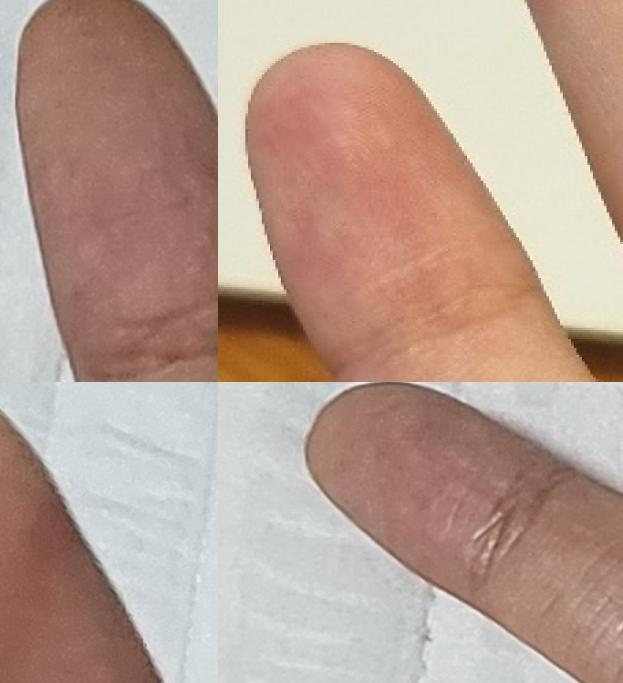Fingerprints: (247, 42, 546, 376), (14, 0, 218, 382), (305, 382, 544, 605), (0, 409, 162, 683)
